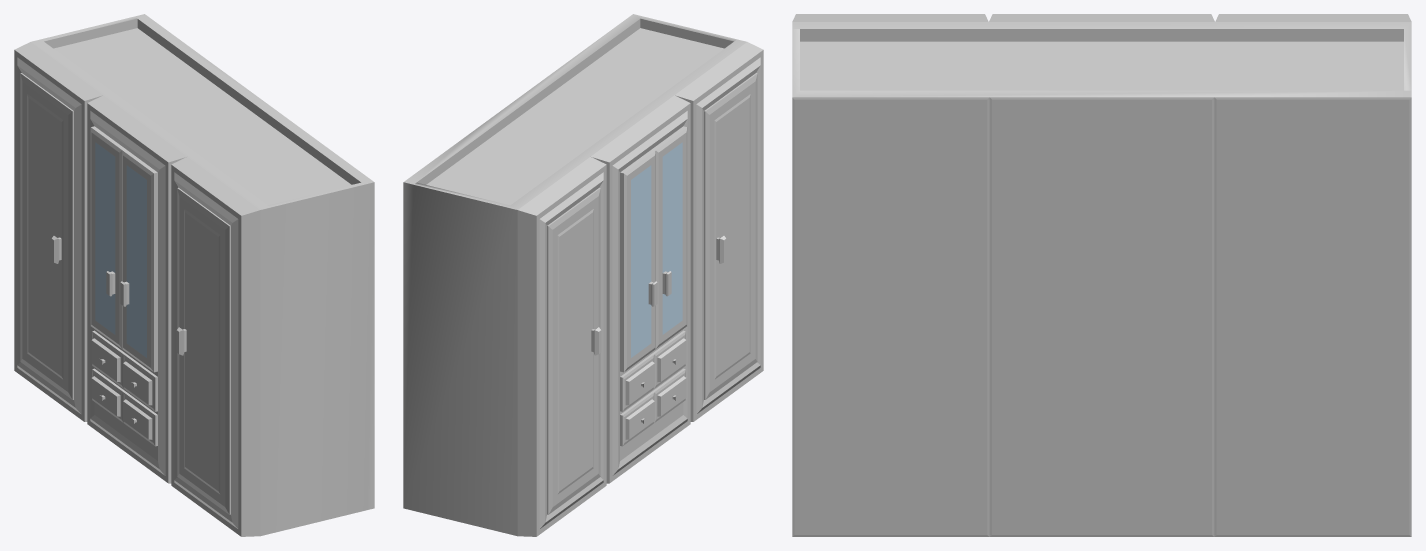
The model's file is White Closet.glb.
3 views of the same model, side by side, from view 1: azimuth 30°, elevation 25°; view 2: azimuth 150°, elevation 25°; view 3: azimuth 270°, elevation 25° (orthographic). The views are drawn at different scales.
Visible parts, largest first — view 1: 3DSMeshMatrix; view 2: 3DSMeshMatrix; view 3: 3DSMeshMatrix.
Part boxes in pixels (x1,y1,x2,y2): 3DSMeshMatrix: [14, 14, 374, 536]; 3DSMeshMatrix: [403, 14, 763, 536]; 3DSMeshMatrix: [792, 14, 1411, 536].
Bounding box in the file's own units: 82.27 × 177 × 226.
